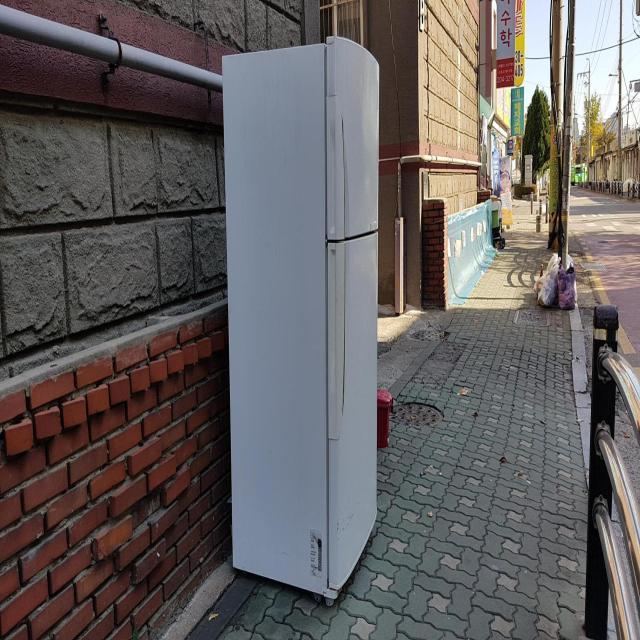refrigerator: (222, 32, 380, 604)
